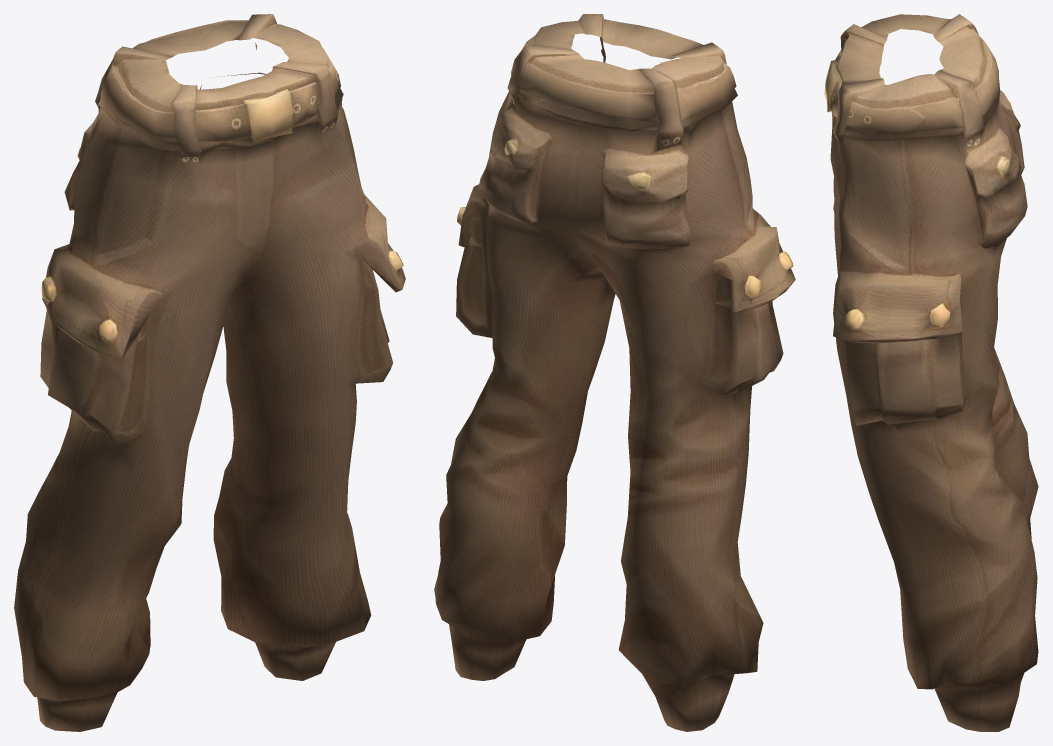
3 renders of one model, left to right at view 1: azimuth 30°, elevation 25°; view 2: azimuth 150°, elevation 25°; view 3: azimuth 270°, elevation 25°, orthographic. The views are drawn at different scales.
Visible parts, largest first — view 1: Wolf3D_Outfit_Bottom; view 2: Wolf3D_Outfit_Bottom; view 3: Wolf3D_Outfit_Bottom.
Boxes of the visible parts, x1,y1,x2,y2 form: Wolf3D_Outfit_Bottom: (14,14,405,731); Wolf3D_Outfit_Bottom: (434,14,795,731); Wolf3D_Outfit_Bottom: (824,14,1038,731).
Size of the model in its own units: 0.4728 by 0.9016 by 0.281.
1 material, 1 textured.
